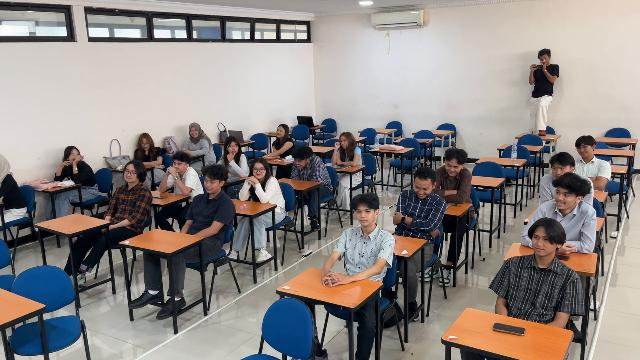senang: (531, 232, 553, 256), (413, 178, 432, 198), (555, 187, 573, 208), (355, 208, 373, 225), (575, 142, 592, 158), (204, 178, 219, 193), (446, 162, 461, 177), (552, 162, 567, 177), (253, 164, 266, 177), (125, 167, 135, 182), (174, 160, 186, 172), (294, 158, 306, 169), (340, 136, 350, 149), (228, 142, 239, 153), (70, 150, 79, 162), (141, 139, 150, 150), (276, 126, 284, 137), (190, 128, 199, 137)
